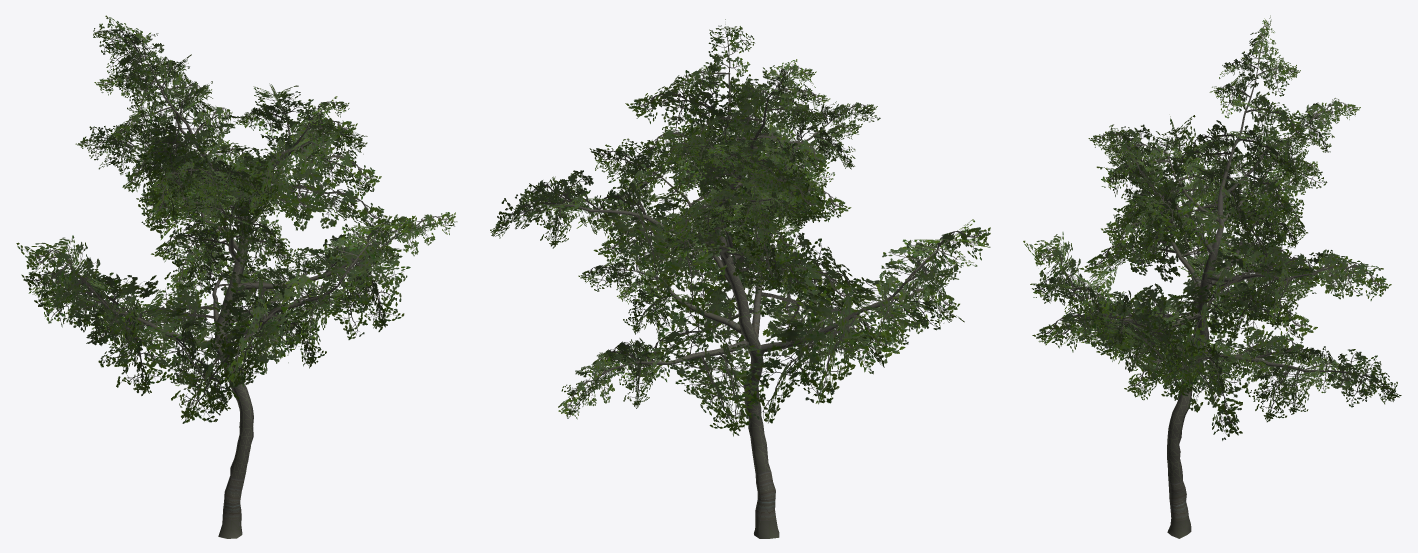
Rendered from oak.glb.
3 renders of one model, left to right at view 1: azimuth 30°, elevation 25°; view 2: azimuth 150°, elevation 25°; view 3: azimuth 270°, elevation 25°, orthographic. The views are drawn at different scales.
Visible parts, largest first — view 1: LOD0; view 2: LOD0; view 3: LOD0.
Part boxes in pixels (x1,y1,x2,y2): LOD0: [16, 15, 457, 538]; LOD0: [490, 19, 990, 538]; LOD0: [1023, 15, 1401, 538].
Size of what is drawn, in the model's own units: 8.87 by 10.52 by 7.53.
Materials: 2 (2 with a texture image).
